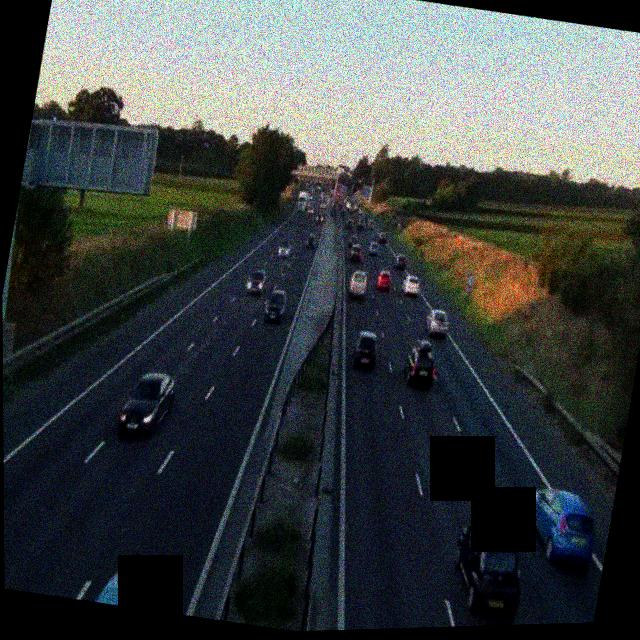car: (447, 515, 532, 621), (521, 484, 603, 569), (115, 365, 178, 443), (88, 561, 164, 613), (402, 337, 442, 389), (350, 327, 381, 370), (263, 286, 289, 324), (424, 307, 450, 338), (245, 266, 267, 297), (348, 270, 369, 300), (374, 267, 392, 292), (403, 276, 420, 297), (348, 243, 363, 263), (393, 252, 408, 271), (276, 239, 291, 258), (366, 241, 379, 258), (305, 232, 317, 248), (348, 234, 359, 247), (314, 211, 324, 224)
truck: (295, 189, 310, 214)
